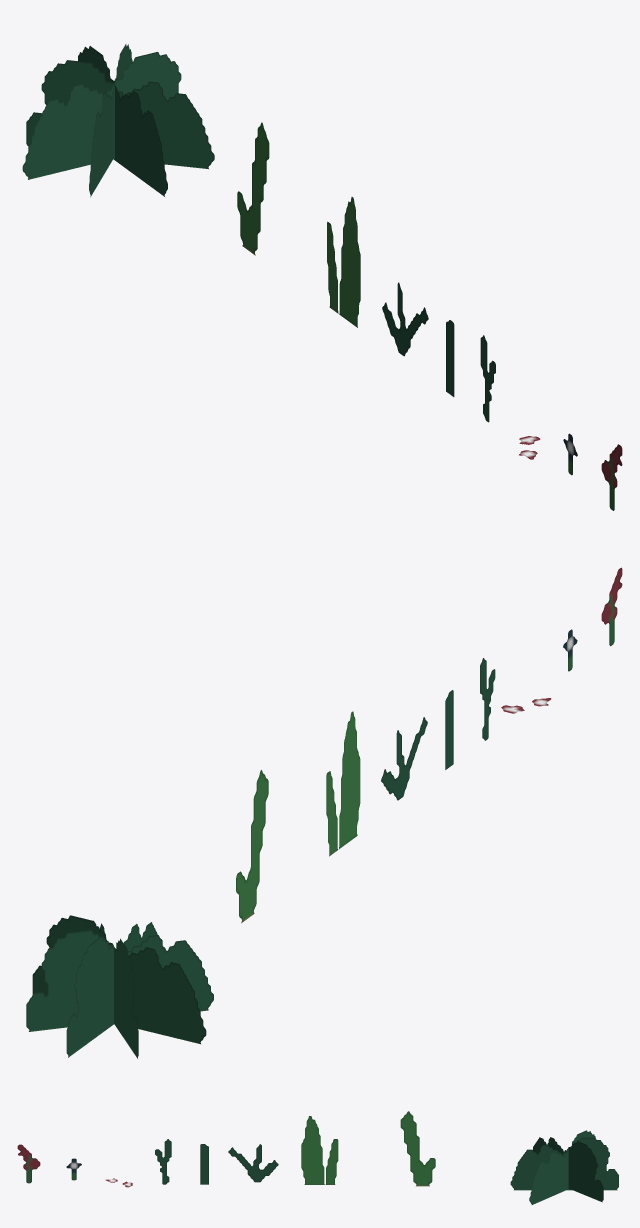
Rendered from Plantas.fbx.
3 views of the same model, one above another, from view 1: azimuth 30°, elevation 25°; view 2: azimuth 150°, elevation 25°; view 3: azimuth 270°, elevation 25° (orthographic). The views are drawn at different scales.
Visible parts, largest first — view 1: Planta7, Planta5, Planta6, Planta4, Planta2; view 2: Planta7, Planta5, Planta6, Planta4, Planta2; view 3: Planta7, Planta5, Planta6, Planta4, Planta2, PlantaVermelha, Planta3.
Part boxes in pixels (x1,y1,x2,y2): Planta7: (22, 44, 214, 197); Planta5: (327, 197, 360, 327); Planta6: (237, 122, 269, 255); Planta4: (382, 282, 428, 356); Planta2: (480, 335, 495, 422); Planta7: (26, 915, 213, 1058); Planta5: (326, 711, 360, 856); Planta6: (236, 770, 268, 923); Planta4: (381, 717, 427, 800); Planta2: (480, 658, 495, 740); Planta7: (510, 1130, 618, 1204); Planta5: (301, 1116, 338, 1184); Planta6: (400, 1111, 435, 1186); Planta4: (228, 1144, 278, 1182); Planta2: (155, 1139, 171, 1184); PlantaVermelha: (17, 1144, 40, 1183); Planta3: (200, 1144, 208, 1184).
Bounding box in the file's own units: 104 × 549 × 94.92.
